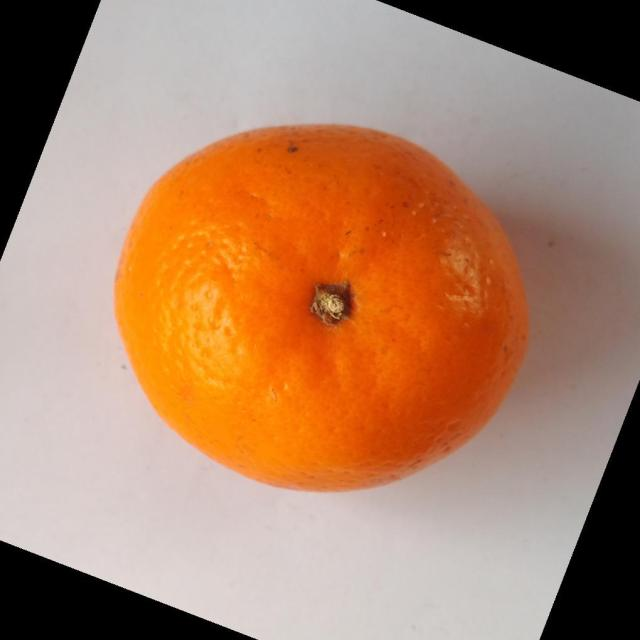fresh orange: (112, 122, 531, 493)
